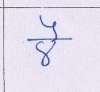ai_matra: (40, 15, 62, 38)
